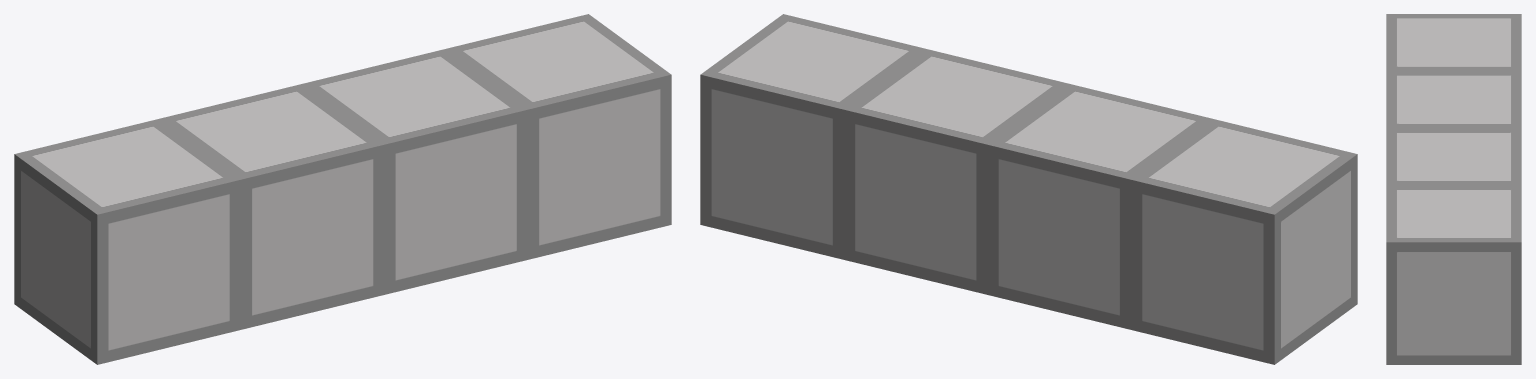
File: Ipiece.obj
3 renders of one model, left to right at view 1: azimuth 30°, elevation 25°; view 2: azimuth 150°, elevation 25°; view 3: azimuth 270°, elevation 25°, orthographic. The views are drawn at different scales.
Visible parts, largest first — view 1: Ipiece; view 2: Ipiece; view 3: Ipiece.
Boxes of the visible parts, <box> form: Ipiece: <box>14,14,671,364</box>; Ipiece: <box>700,14,1357,364</box>; Ipiece: <box>1386,14,1521,364</box>.
Bounding box in the file's own units: 4 × 1 × 1.
Materials: 1 (1 with a texture image).
